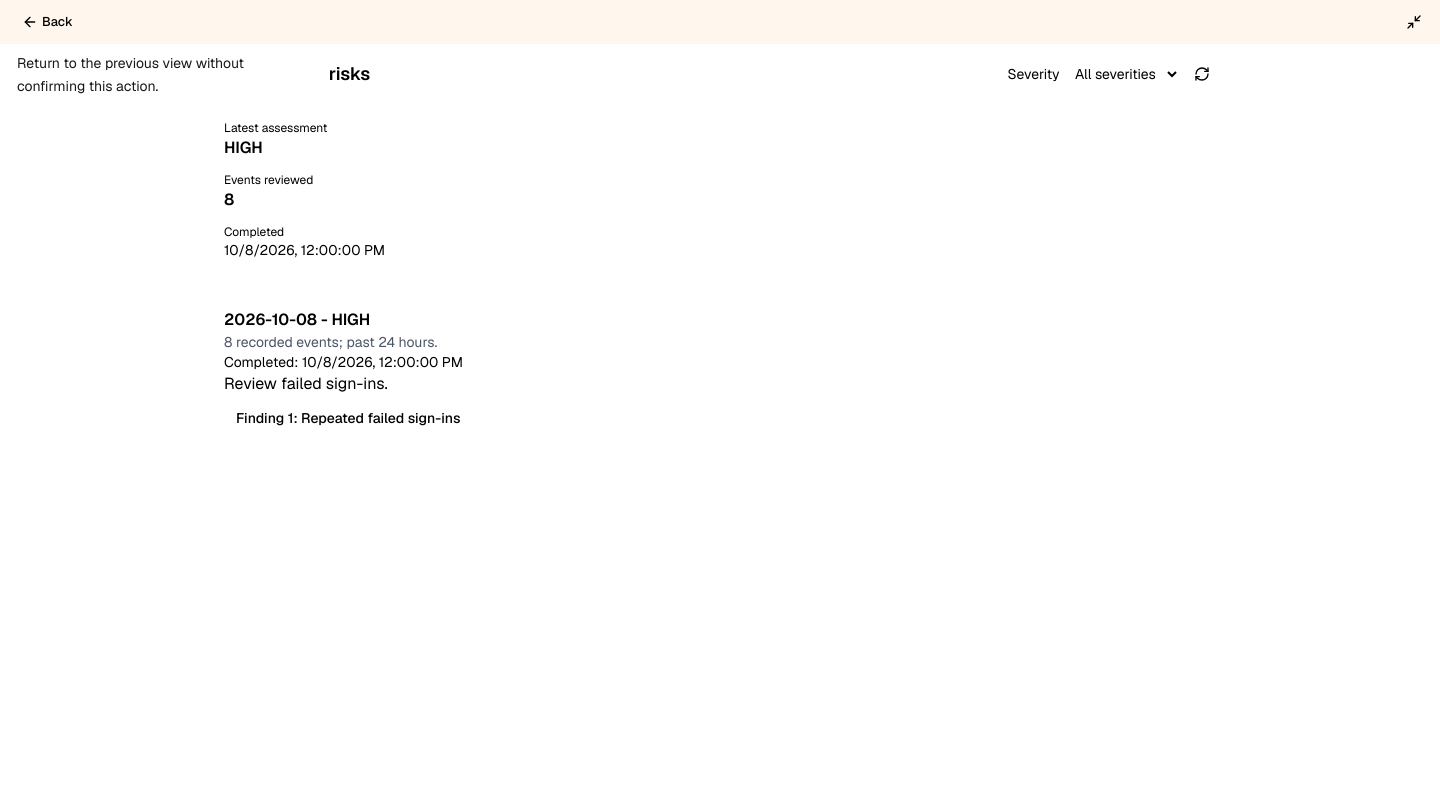
it: filters severity and refreshes stored reports without starting analysis
Later steps or results of the test are not shown.
Expected: the text "Review failed sign-ins." is shown, [224,373,388,394]
Click the button "Finding 1: Repeated failed sign-ins". click: (262, 418)
box: [224,408,1216,428]
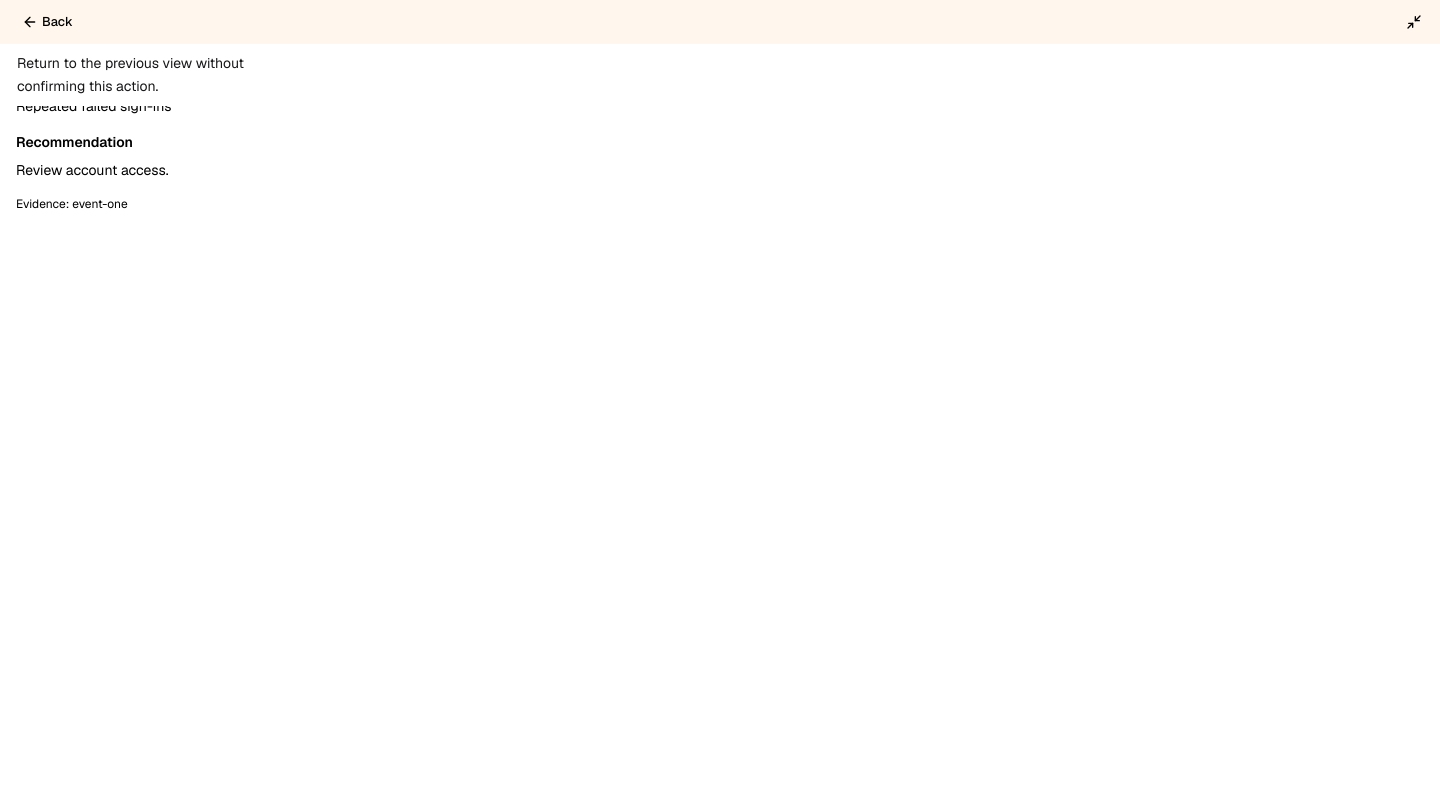
Expected: the text "Evidence: event-one" is shown, [16,196,128,212]
Click the button "Back". click: (47, 22)
box: [12,8,83,36]
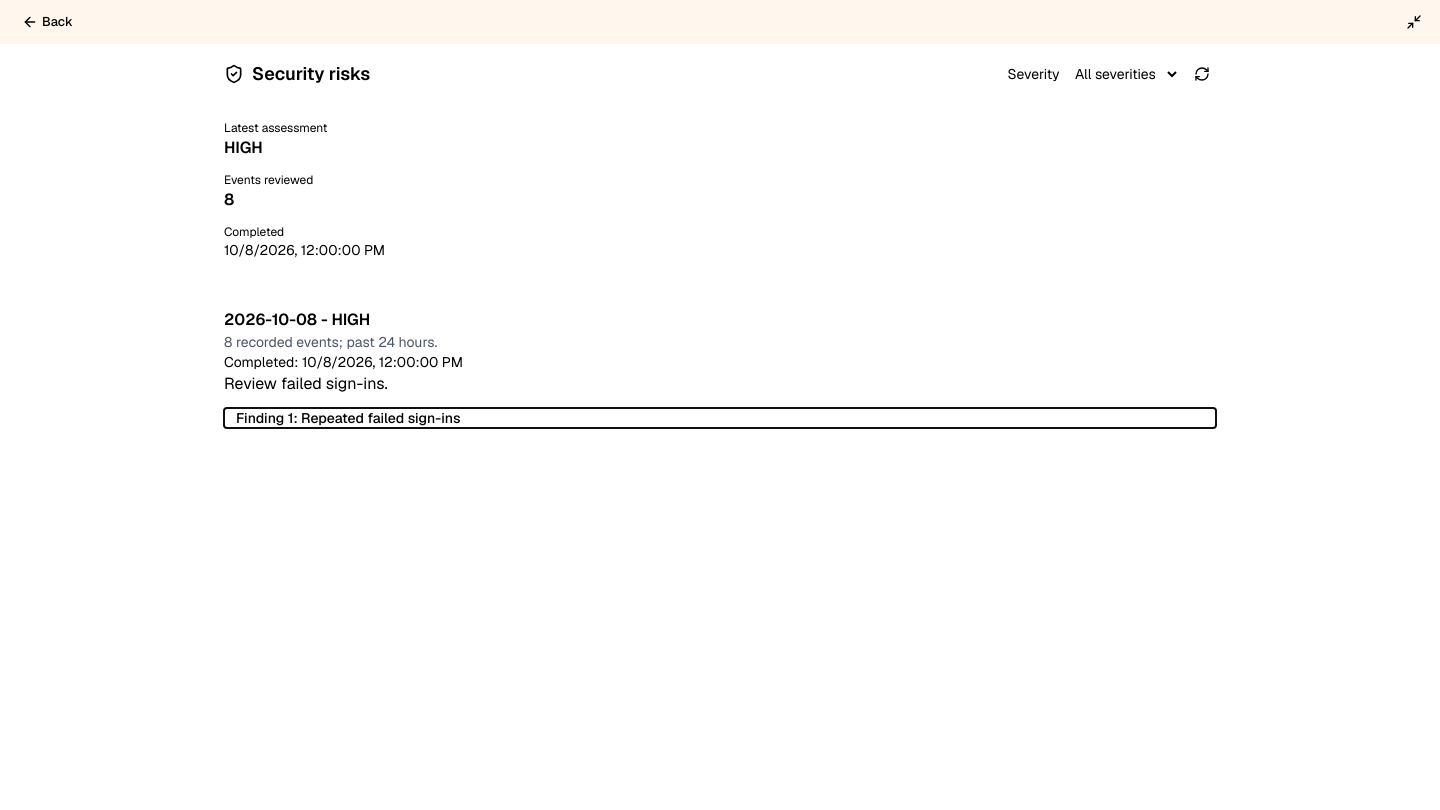
Select "low" in the dropdown. click: (1122, 74)
box: [1063,56,1180,92]
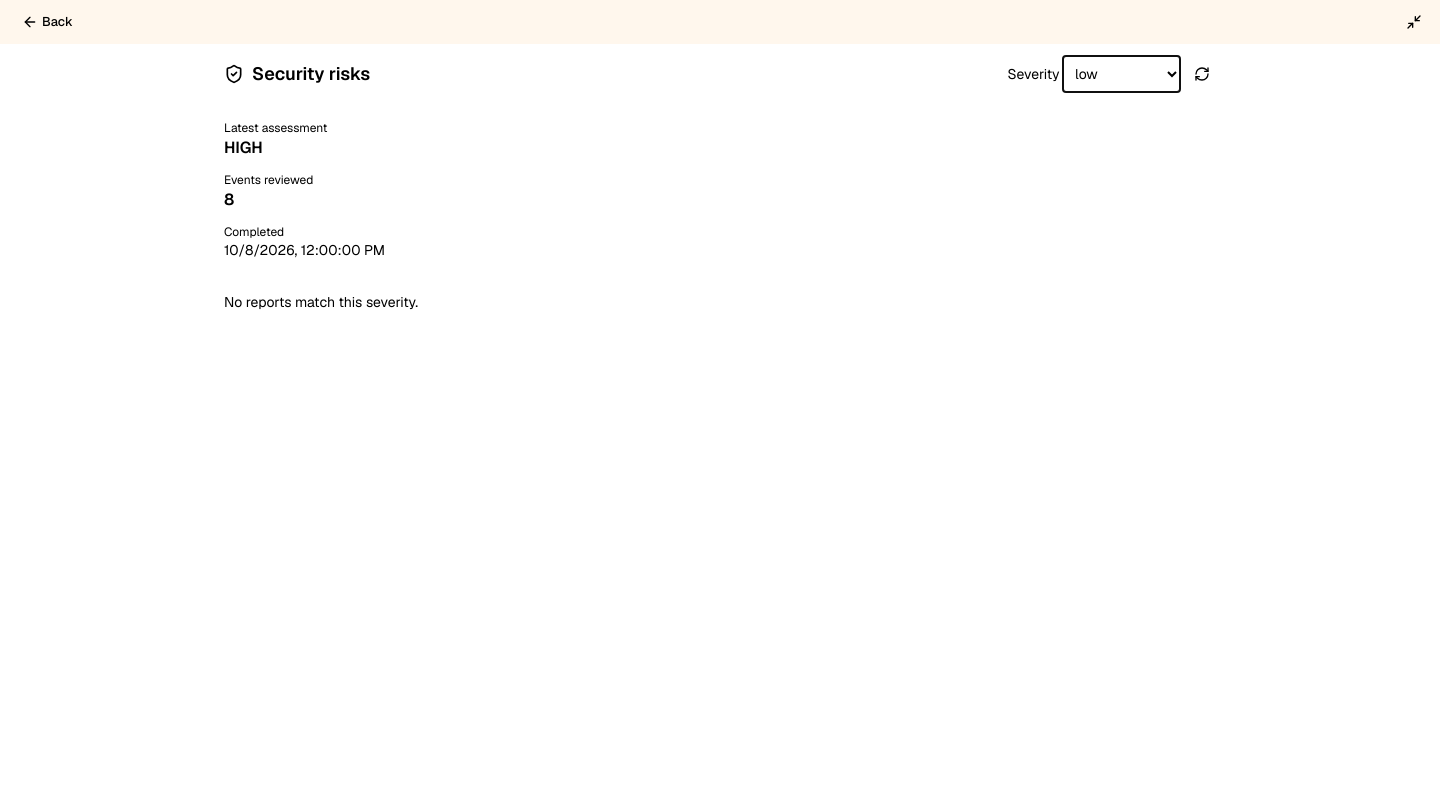
Expected: the text "No reports match this severity." is shown, [224,293,418,311]
